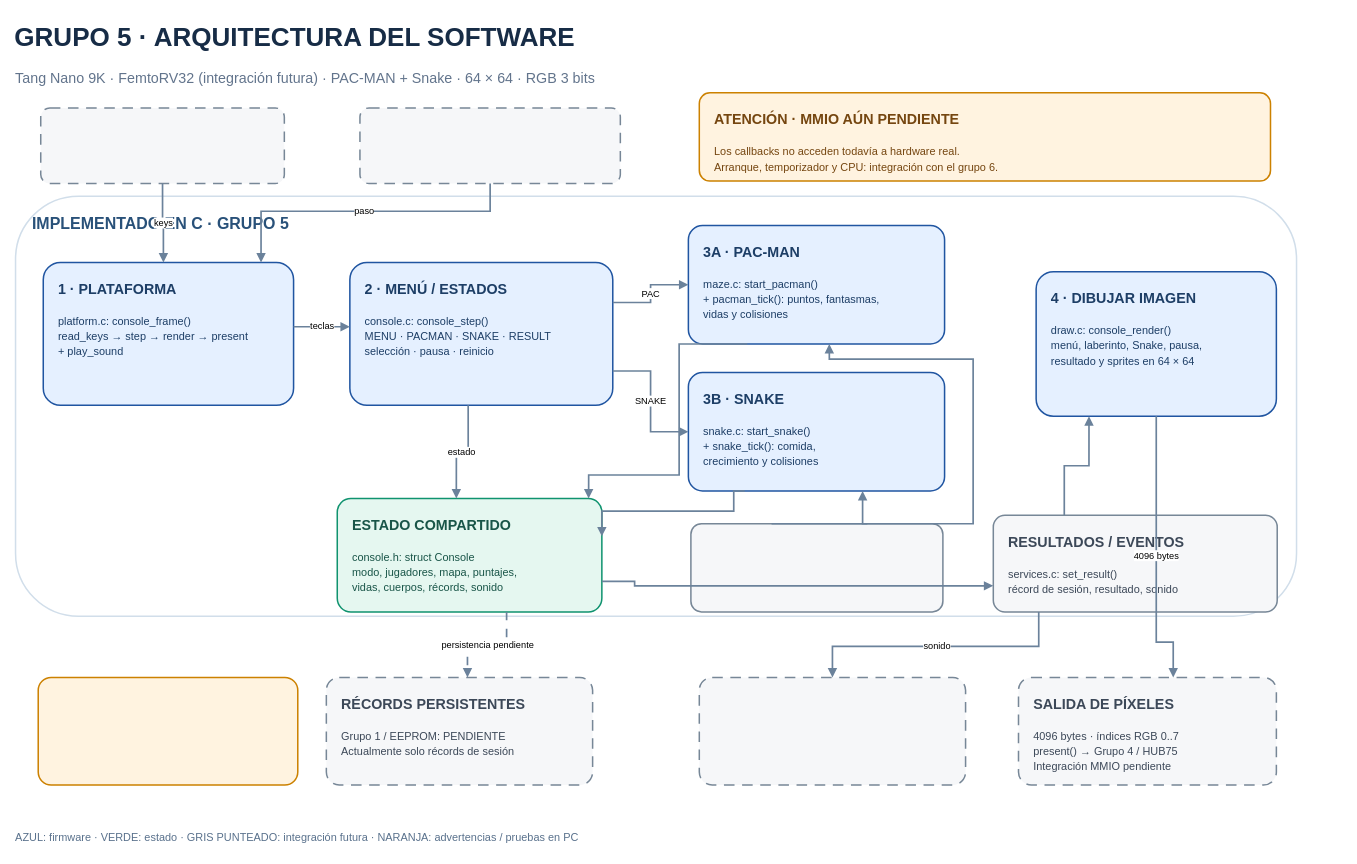
The diagram is 1357 pixels wide and 864 high, and some of its shapes have lost their labels. The centre of each missing label's shape, as x and y in pixels:
CONTROLES controls.c: key_direction() WASD y flechas → dirección: pixel 816 567
PRUEBAS EN LINUX demo_host.c · sim/test_console.c Genera PPM y ejecuta pruebas: pixel 167 730
RELOJ / TIMER · GRUPO 6 Paso lógico de ~150 ms (propuesta): pixel 490 145
SALIDA DE AUDIO play_sound() → Grupo 3 / I2S Contrato de registros pendiente: pixel 832 730
TECLADO PS/2 · GRUPO 2 Máscara de teclas mantenidas: pixel 162 145
